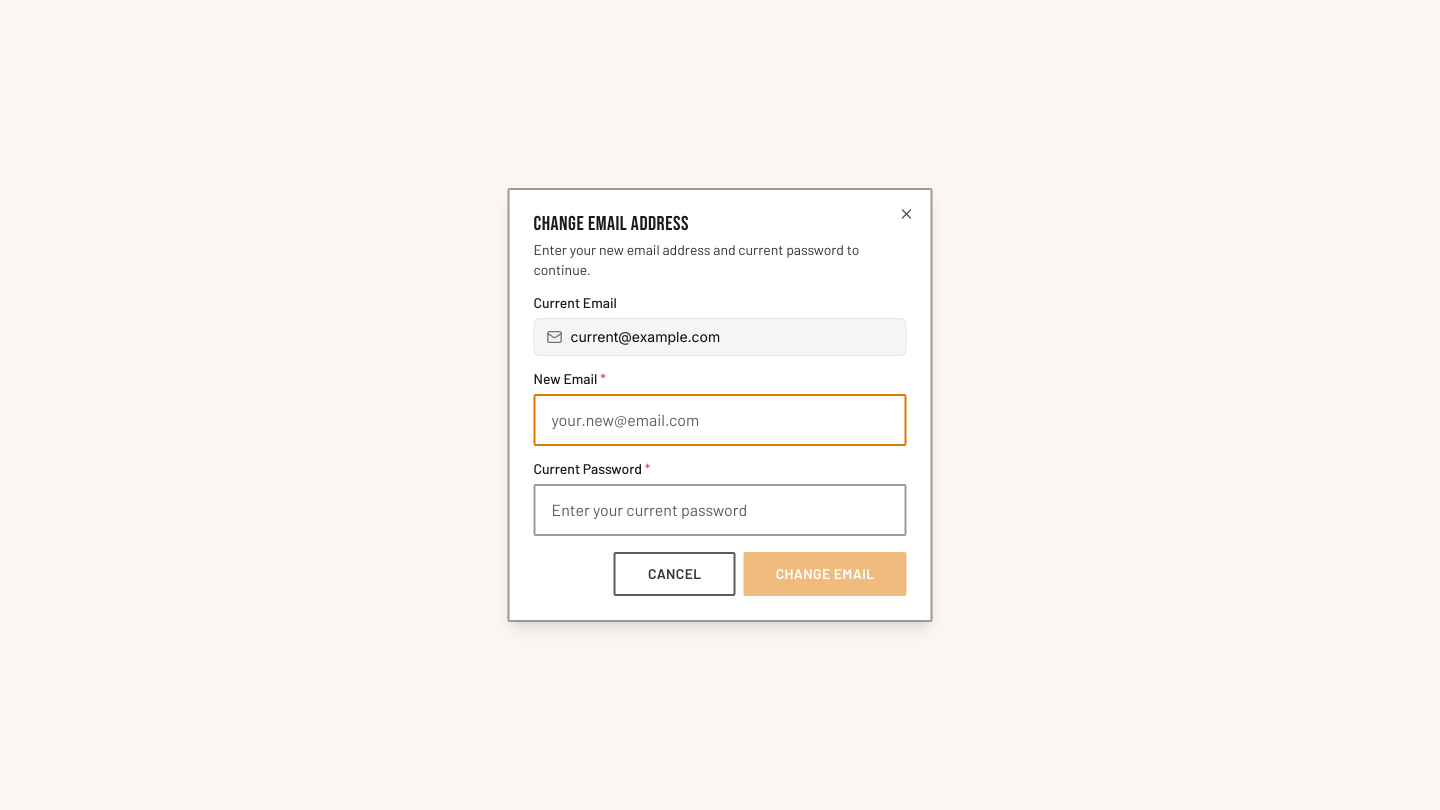
Test: EmailChangeForm › Form Validation › should require current password
Type "new@example.com" into the field labelled "New Email *" at [720, 420], box [534,394,906,446]
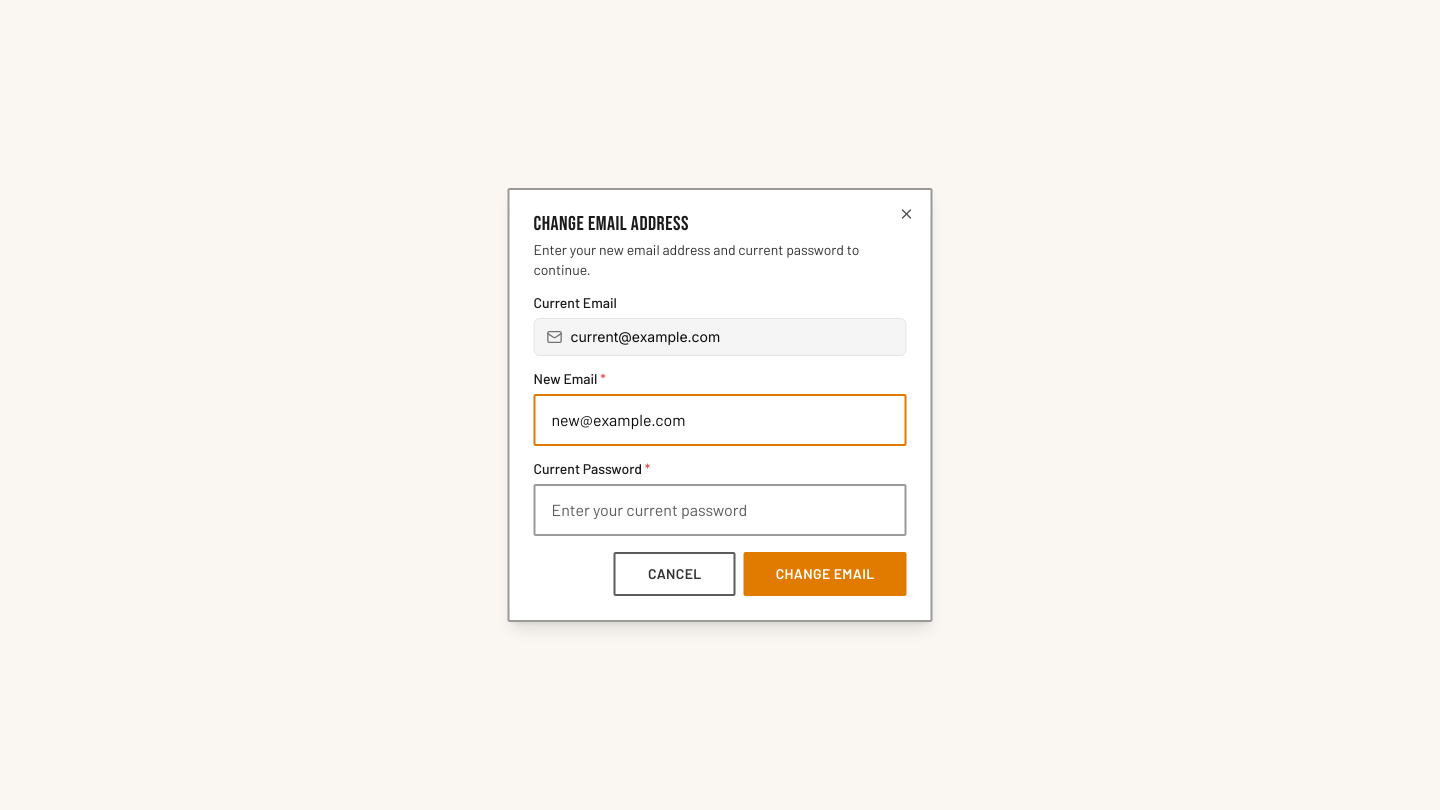
Click the button "Change Email" at [825, 574], box [744,552,906,596]
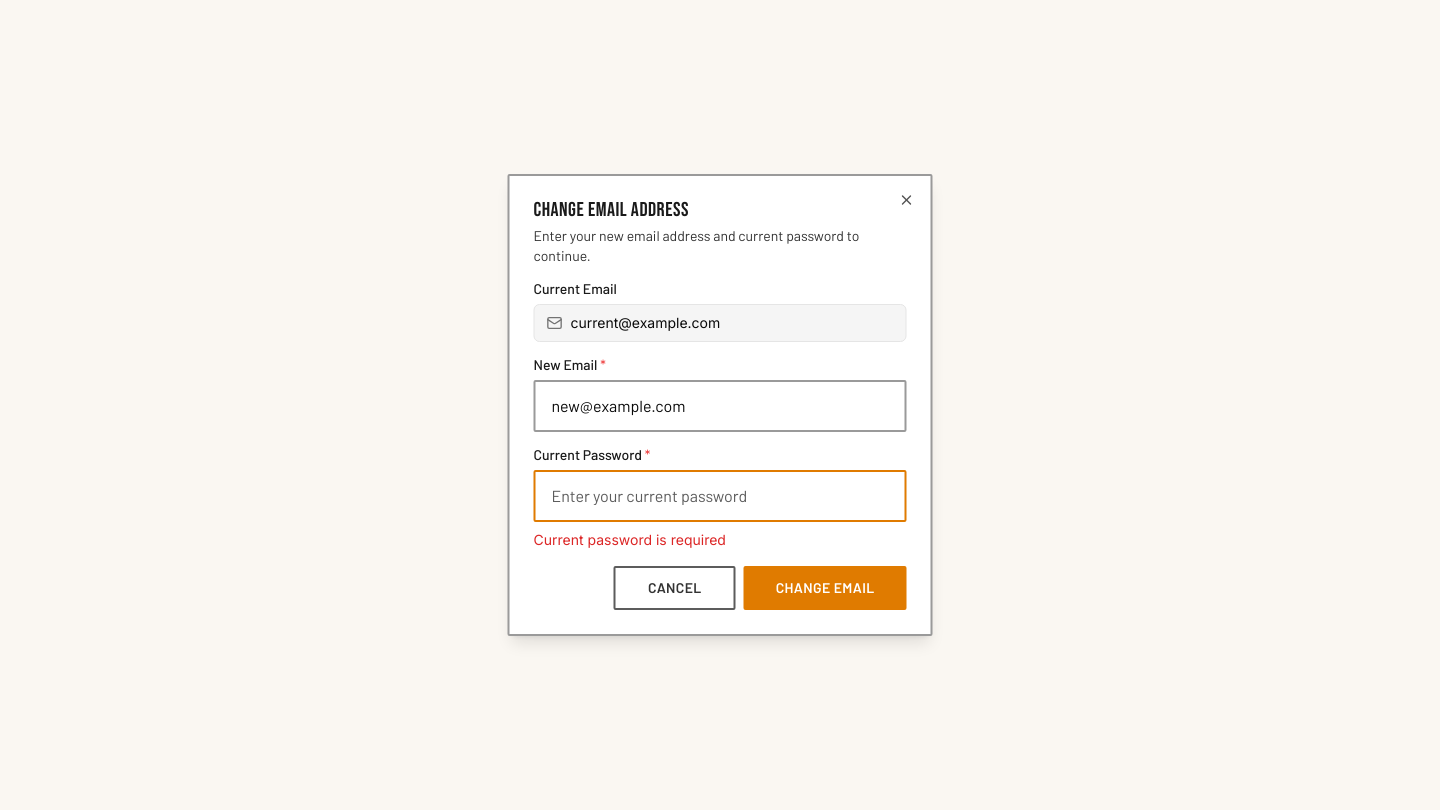
Check: the text "Current password is required" is shown, box [534,531,726,548]
